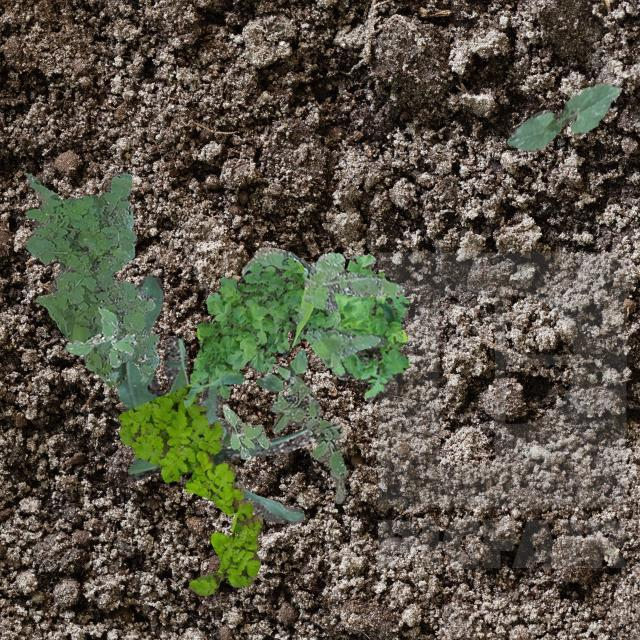crop: (113, 272, 314, 524), (506, 84, 620, 150)
weed: (116, 383, 262, 594), (24, 172, 158, 386), (182, 256, 340, 406), (240, 246, 402, 366), (328, 252, 408, 400), (270, 384, 346, 502), (62, 304, 138, 366), (222, 402, 270, 458), (256, 348, 306, 394)
